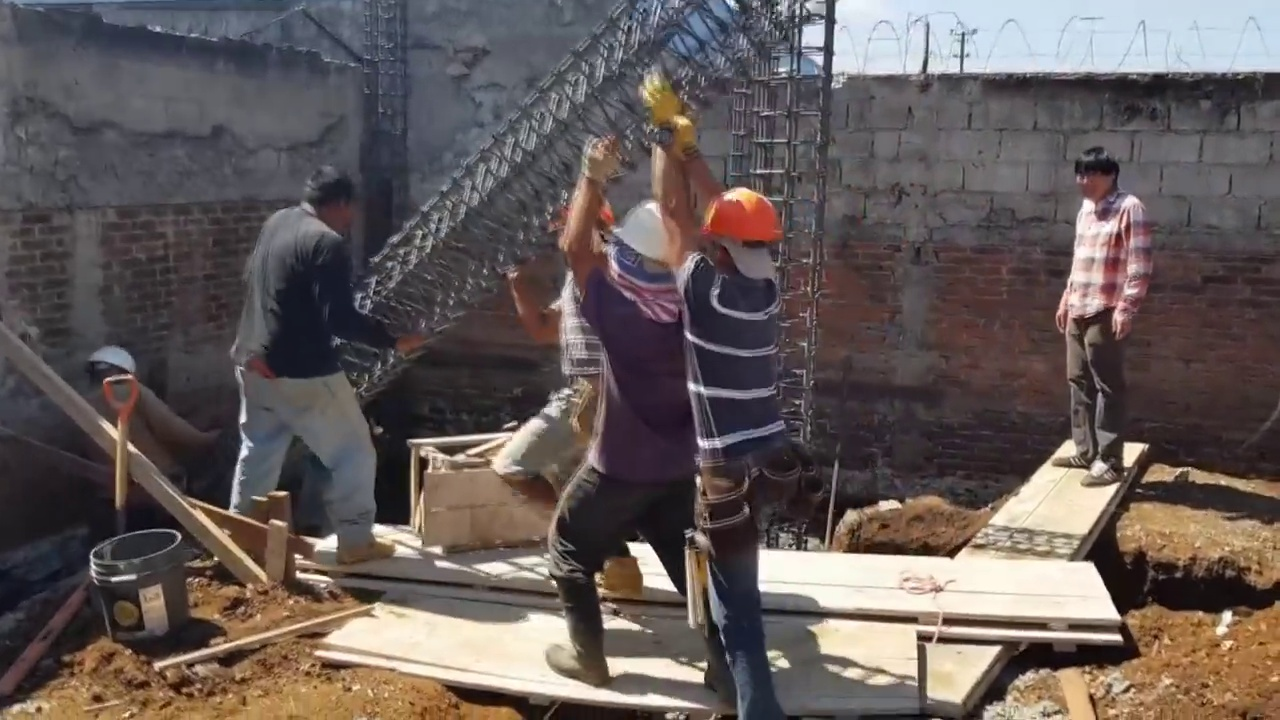helmet: (702, 190, 782, 253), (612, 197, 678, 269), (87, 338, 140, 376)
helmet-off: (295, 166, 356, 239), (1081, 146, 1128, 206)
helmet-on: (703, 176, 789, 281), (607, 194, 681, 301), (86, 341, 141, 399)
person: (545, 65, 704, 693), (238, 151, 404, 577), (679, 148, 802, 719), (1057, 153, 1154, 512), (488, 208, 604, 501), (74, 341, 217, 526)
